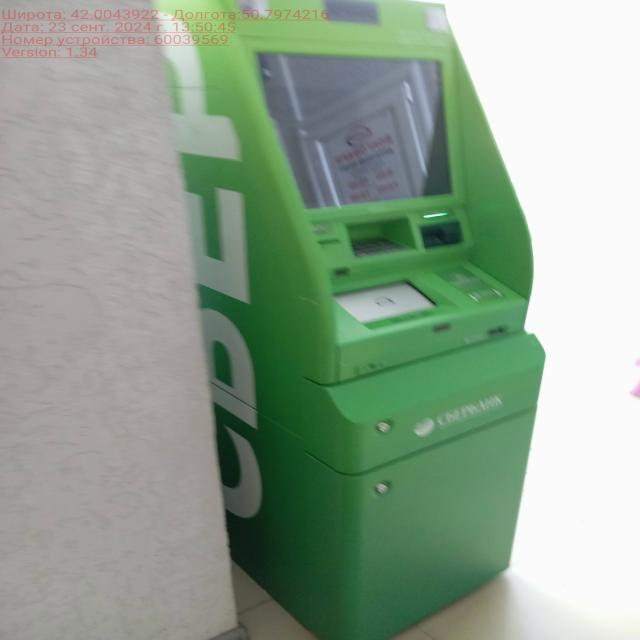bank: (150, 0, 537, 640)
